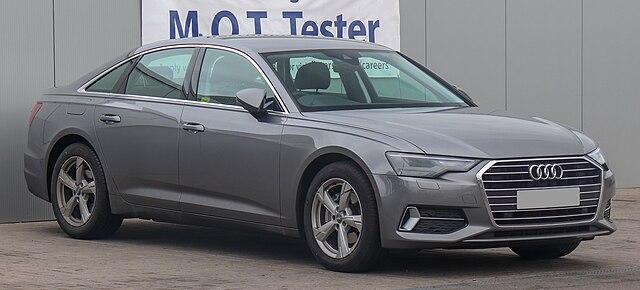car: (22, 34, 619, 273)
